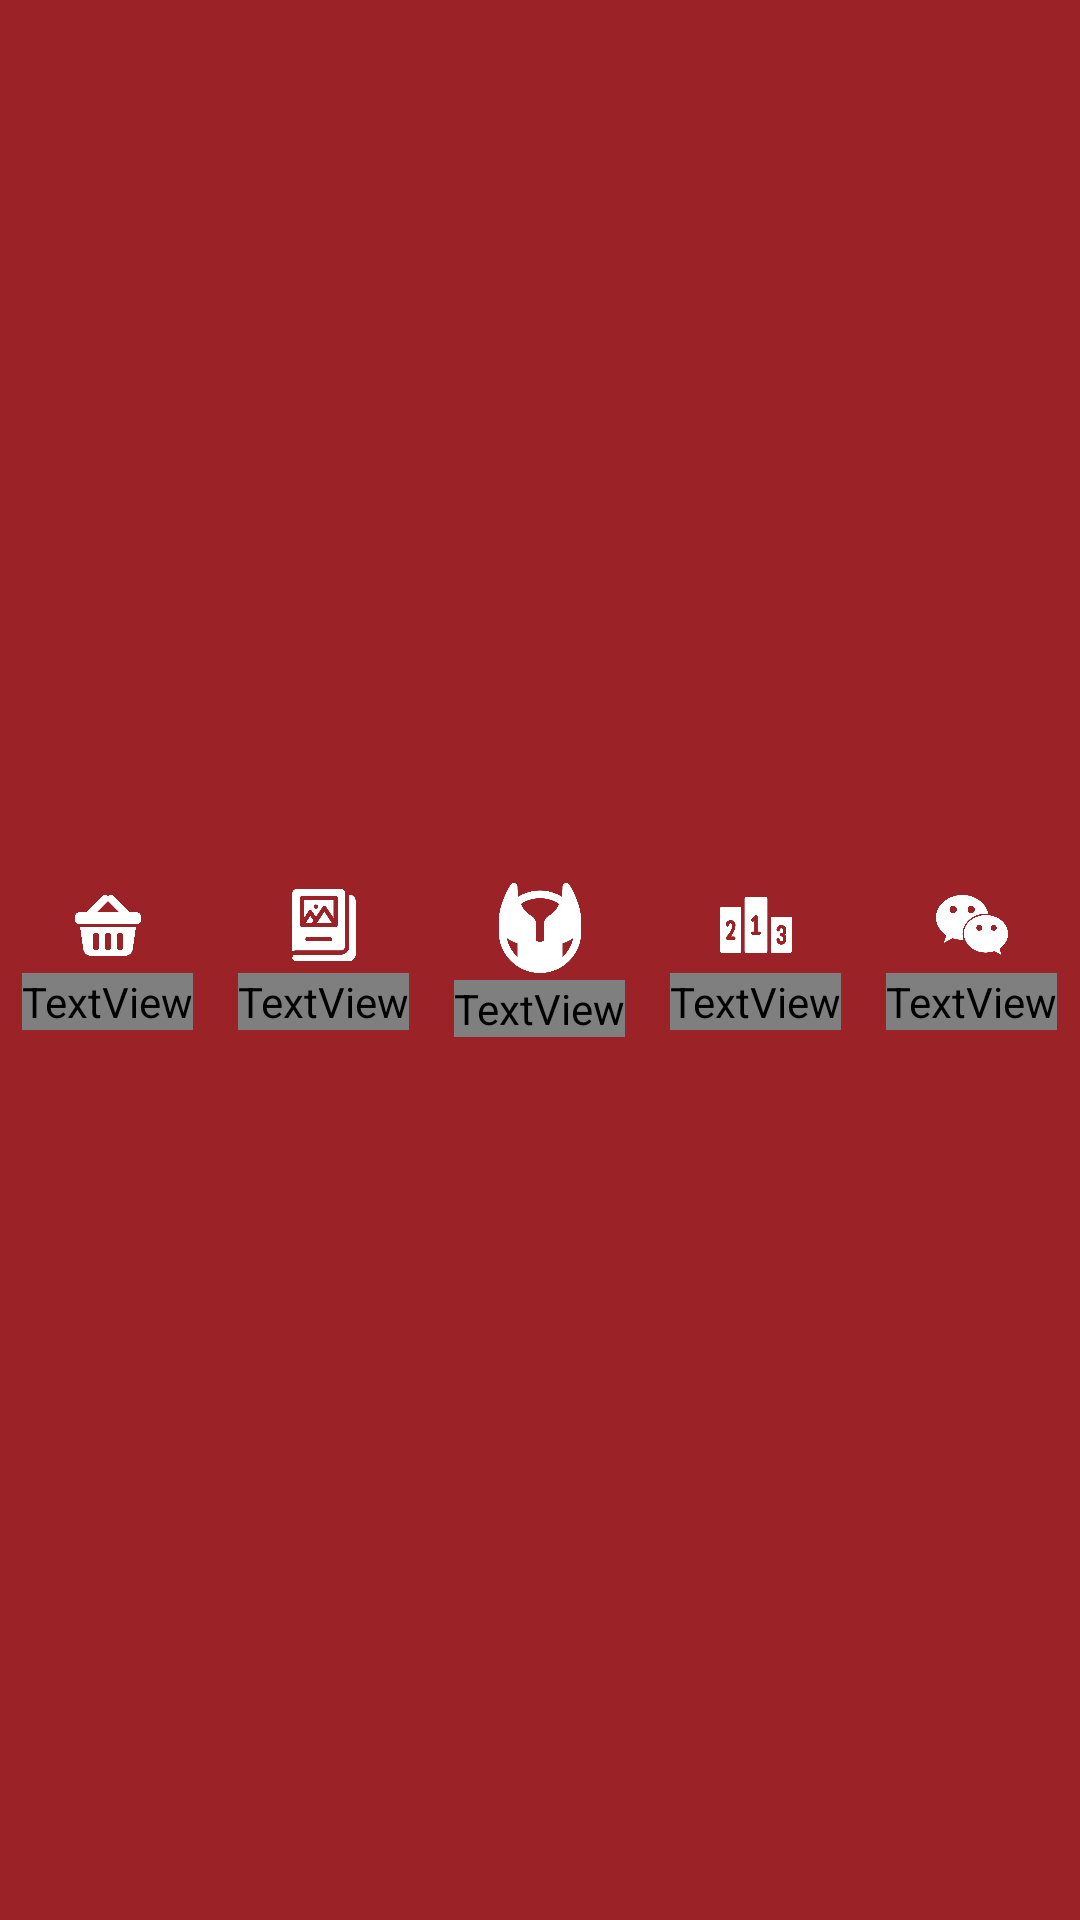

Where to tap for icons on this 1080×1920 app screen, as point (x, y):
buy: point (108, 925)
collection: point (324, 925)
podium: point (756, 925)
